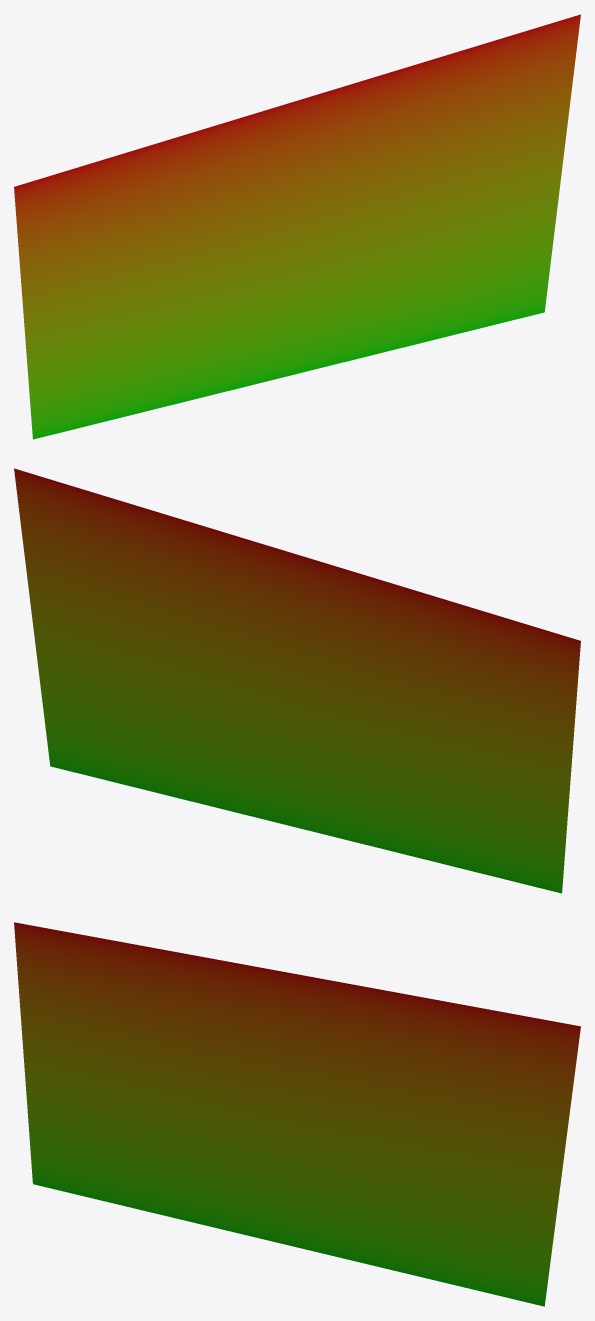
The model's file is Var1_LOD3.fbx.
3 views of the same model, one above another, from view 1: azimuth 30°, elevation 25°; view 2: azimuth 150°, elevation 25°; view 3: azimuth 330°, elevation 25° (orthographic).
Visible parts, largest first — view 1: _uy5b_Var1_LOD3; view 2: _uy5b_Var1_LOD3; view 3: _uy5b_Var1_LOD3.
Boxes of the visible parts, x1,y1,x2,y2 form: _uy5b_Var1_LOD3: [14, 14, 580, 439]; _uy5b_Var1_LOD3: [14, 468, 580, 893]; _uy5b_Var1_LOD3: [14, 922, 580, 1306].
Bounding box in the file's own units: 45.72 × 22.46 × 2.68e-06.
